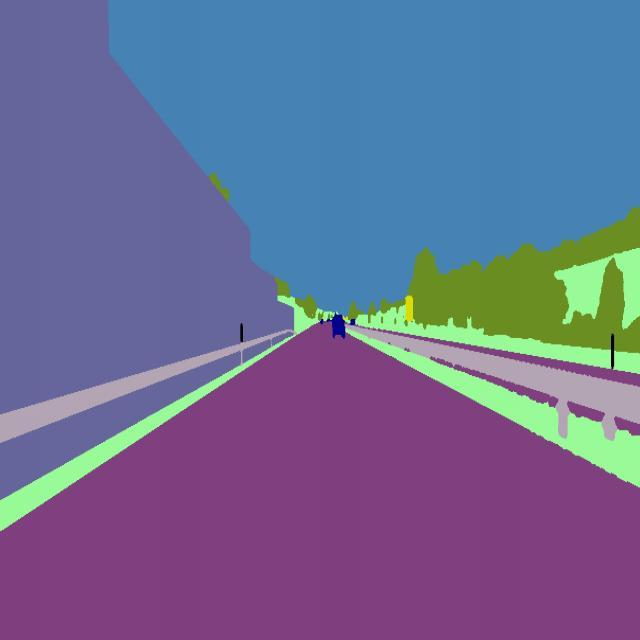safe: (327, 309, 349, 340), (349, 316, 357, 328)
